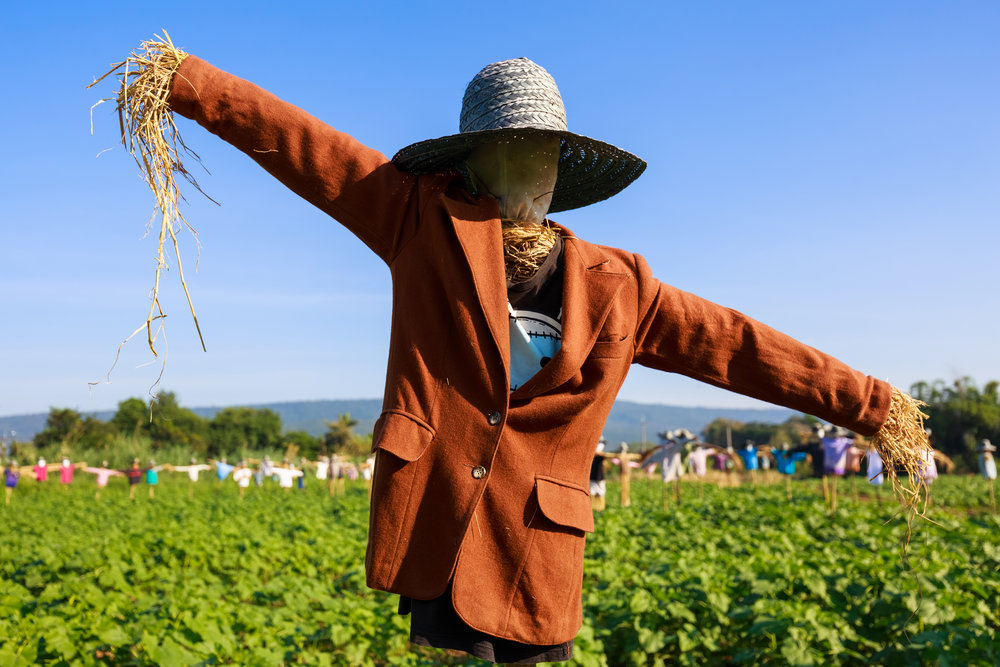person-like: (89, 28, 940, 667)
